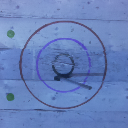Axe Tip: (61, 74, 72, 77)
